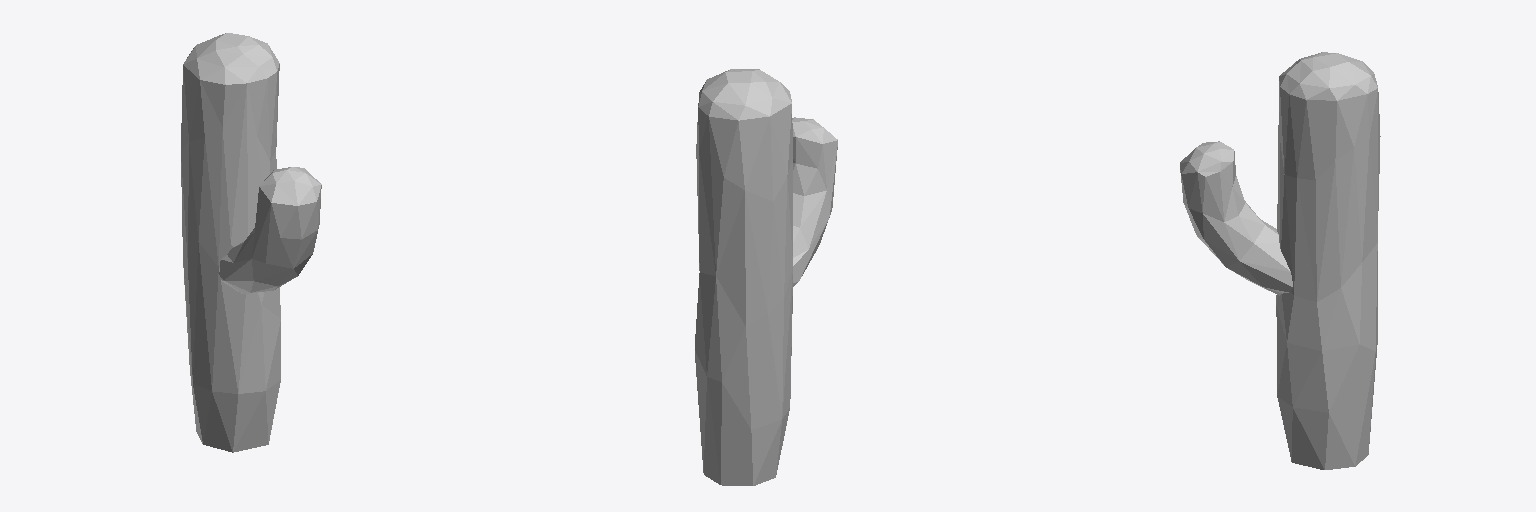
Rendered from Cactus03.obj.
3 renders of one model, left to right at view 1: azimuth 30°, elevation 25°; view 2: azimuth 150°, elevation 25°; view 3: azimuth 270°, elevation 25°, orthographic.
Visible parts, largest first — view 1: Cylinder, Cylinder.001; view 2: Cylinder, Cylinder.001; view 3: Cylinder, Cylinder.001.
Part boxes in pixels (x1,y1,x2,y2): Cylinder: (181,33,280,452); Cylinder.001: (219,167,321,293); Cylinder: (695,69,792,485); Cylinder.001: (792,117,837,286); Cylinder: (1276,52,1380,469); Cylinder.001: (1180,141,1292,295).
Bounding box in the file's own units: 0.7104 × 3.11 × 1.43.